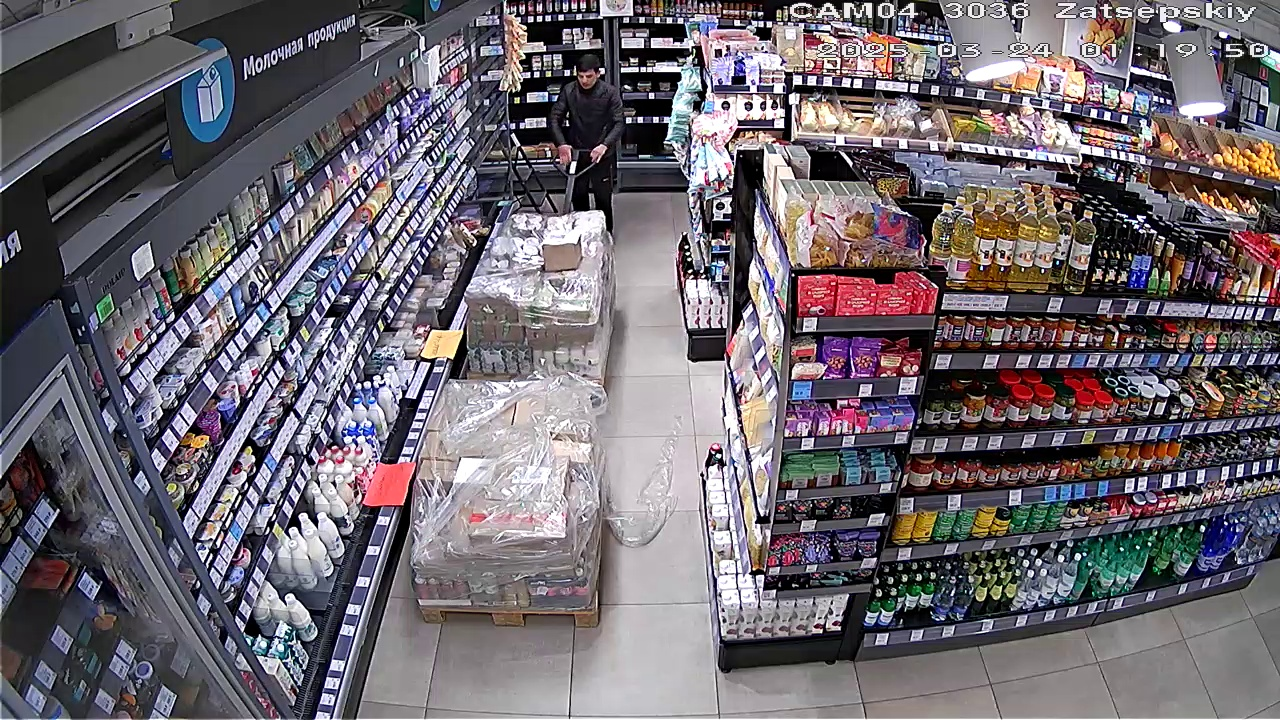Human: (539, 53, 633, 244)
pallet: (408, 369, 616, 626), (470, 204, 608, 375)
